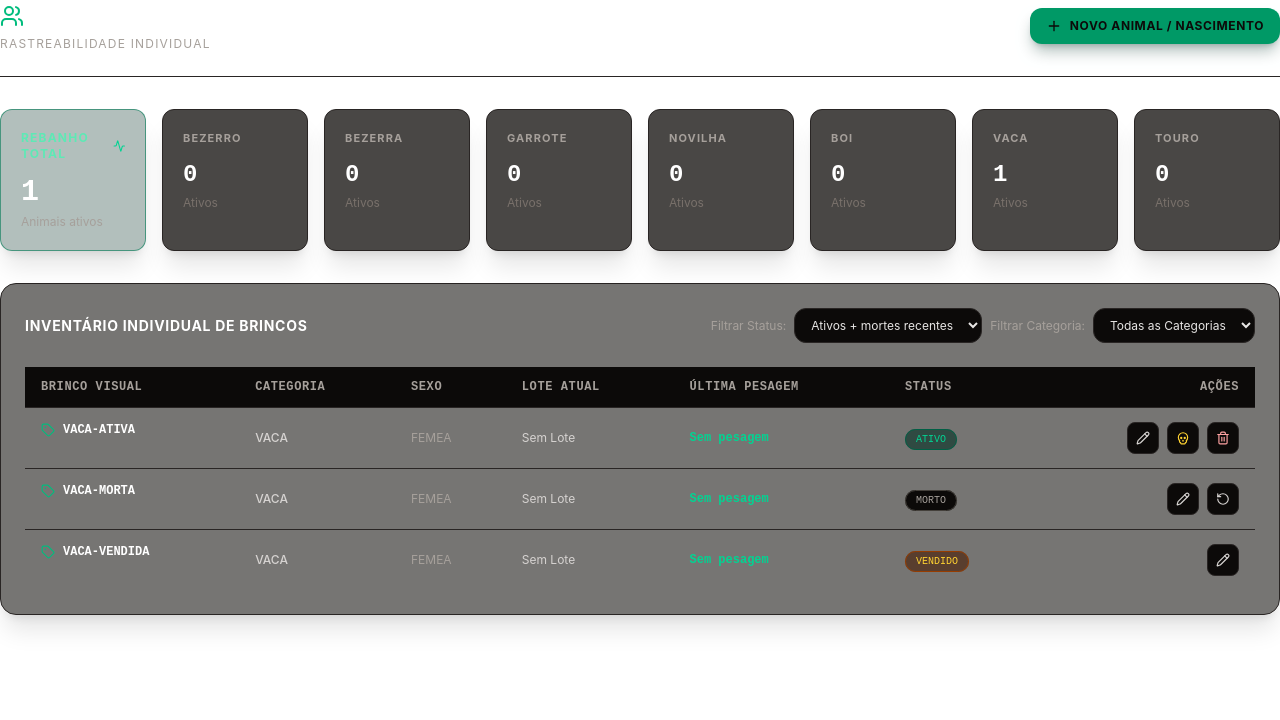
Test: Rebanho renderizado › @spec:AC-344 rejeita peso atual informado sem data da pesagem
Expected: the text "VACA-ATIVA" is shown, [25,408,239,452]
Click the button "Novo Animal / Nascimento" at (1155, 26), box [1030,8,1279,44]
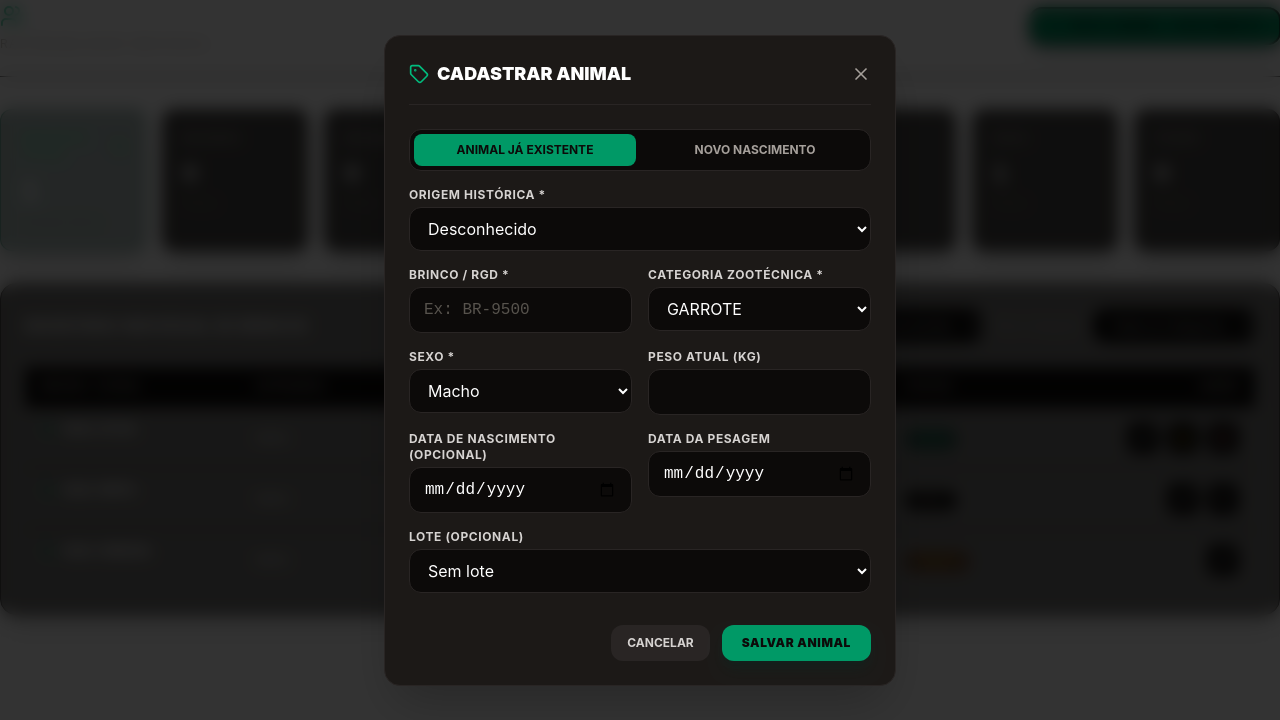
Type "HIST-101" into the field labelled "Brinco / RGD *" at (520, 310), box [409,286,632,332]
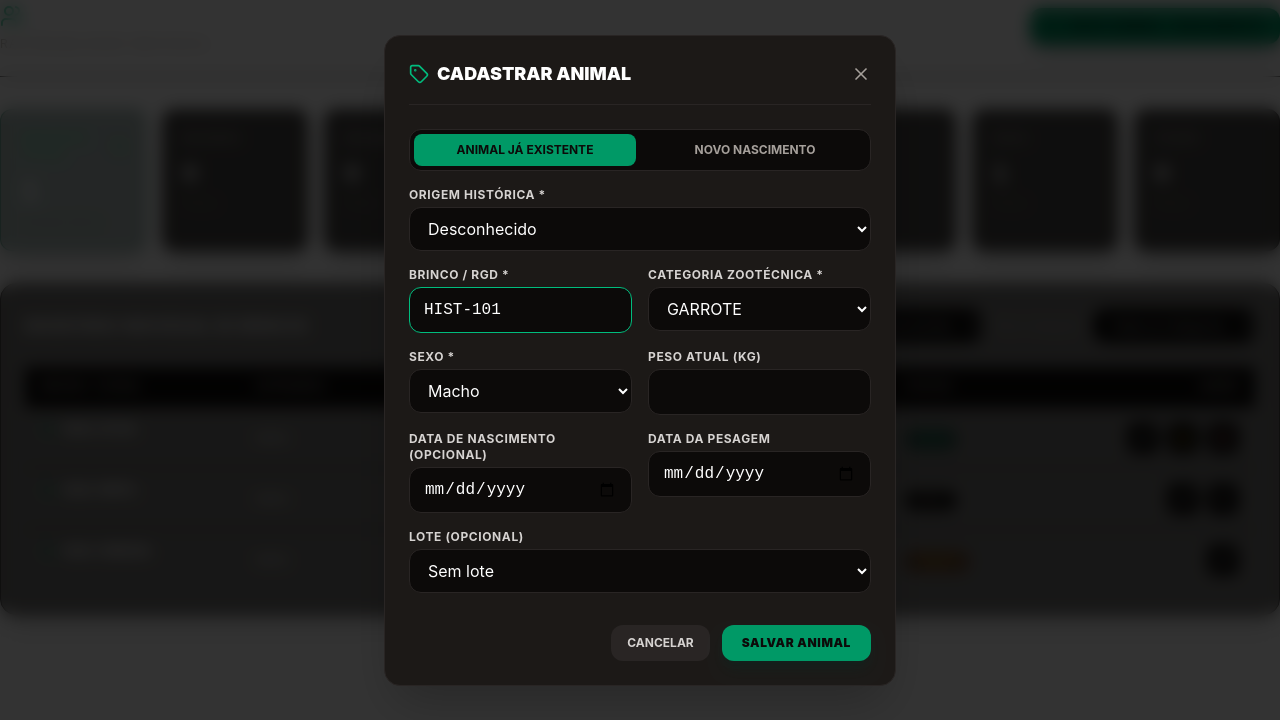
Type "200" into the number field labelled "Peso atual (kg)" at (760, 392), box [648,368,871,414]
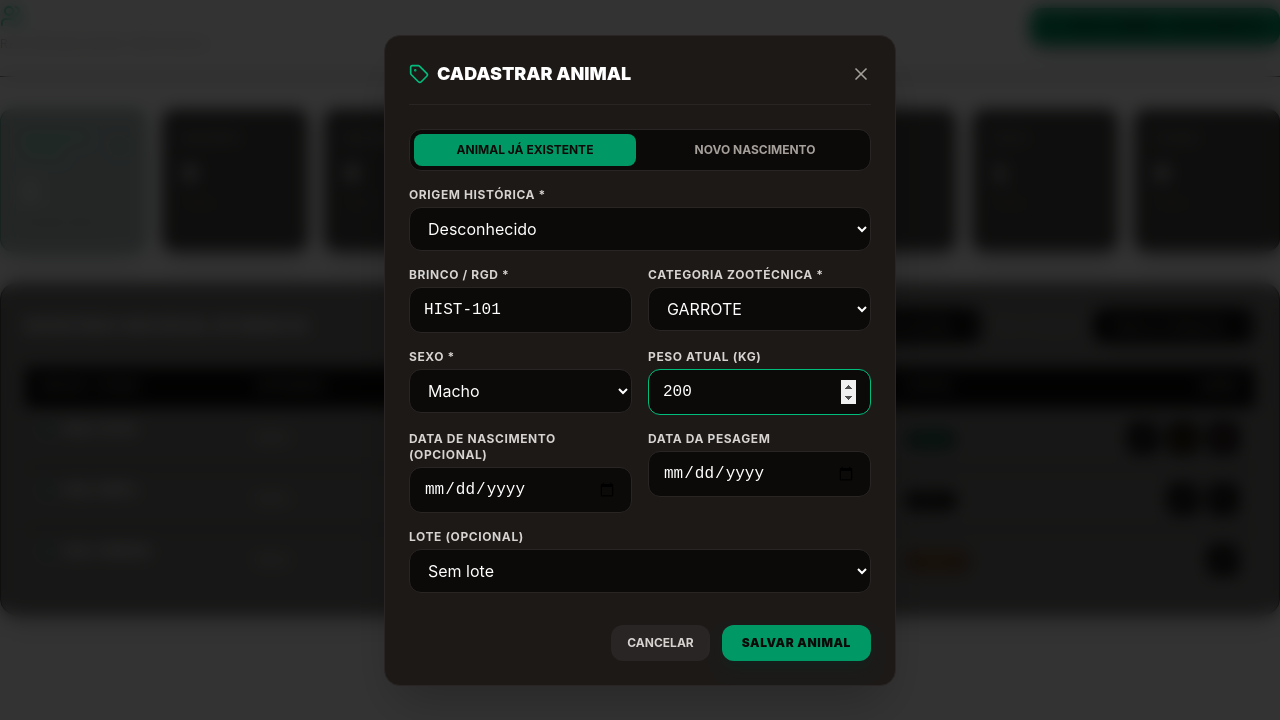
Click the button "Salvar Animal" at (796, 642), box [722,624,871,660]
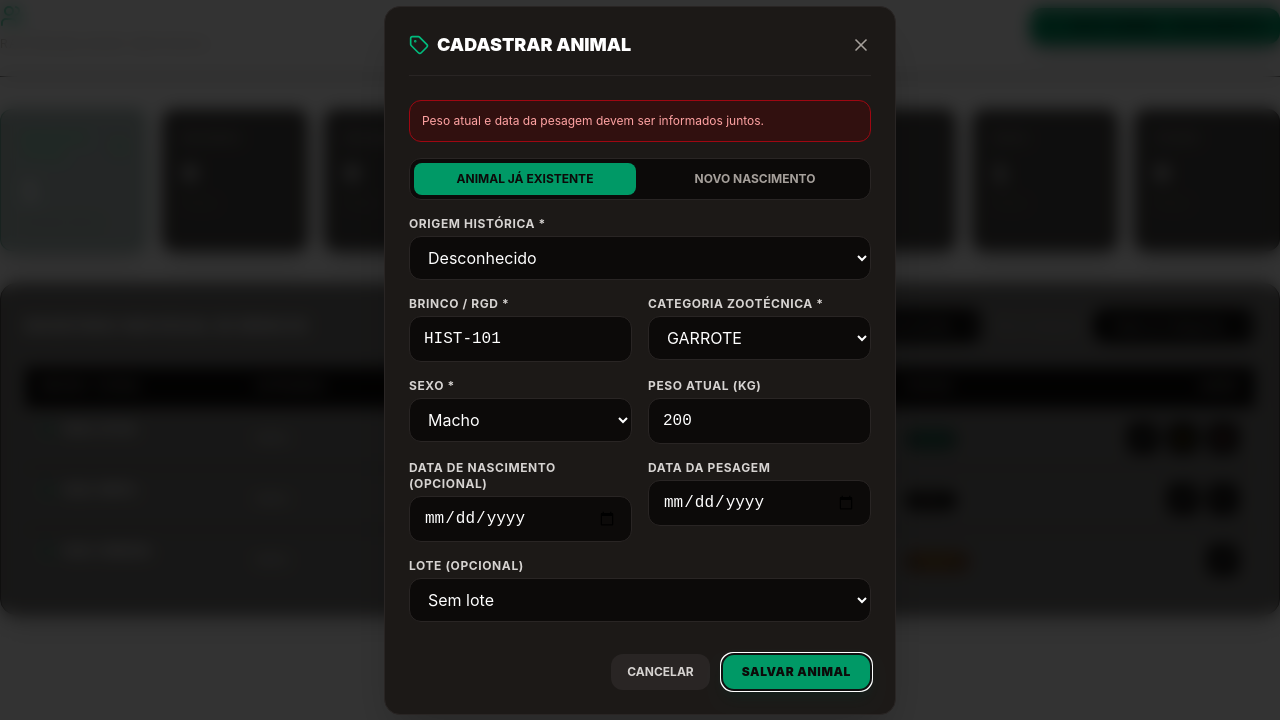
Result: the text "Peso atual e data da pesagem devem ser informados juntos." is shown at [409,100,871,142]
